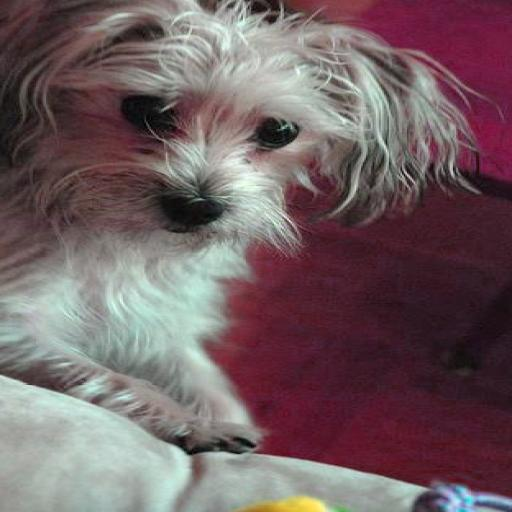dog_face: (0, 6, 427, 238)
